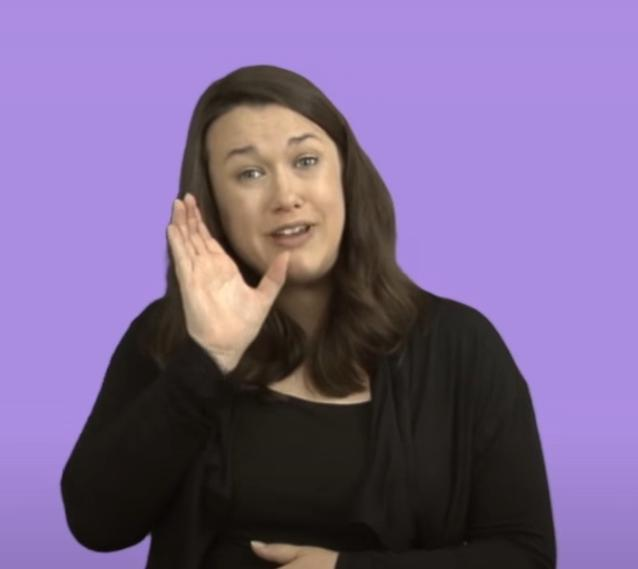drink: (159, 179, 294, 371)
